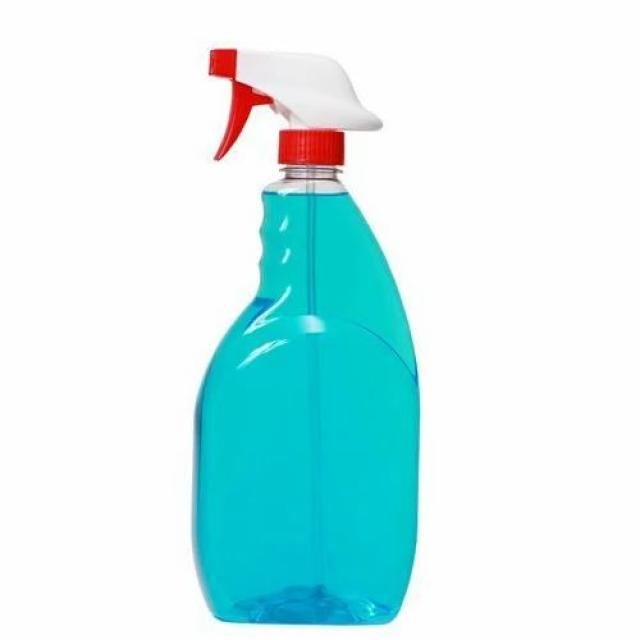winwinshield_washer: (195, 43, 424, 630)
